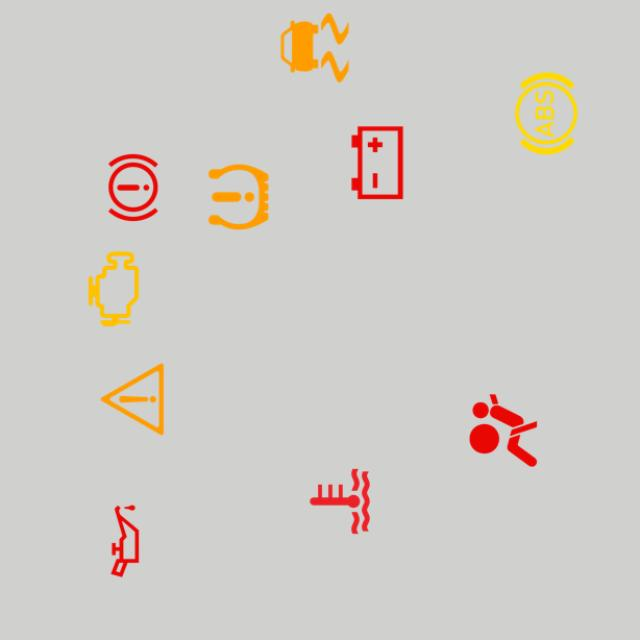Anti Lock Braking System: (501, 69, 591, 158)
Braking System Issue: (89, 143, 178, 232)
Charging System Issue: (333, 118, 422, 207)
Check Engine: (69, 244, 158, 333)
Electronic Stability Problem -ESP-: (270, 3, 360, 93)
Engine Overheating Warning Light: (295, 457, 385, 546)
Low Engine Oil Warning Light: (80, 496, 170, 586)
Low Tire Pressure Warning Light: (194, 152, 283, 242)
Master warning light: (88, 354, 177, 444)
SRS-Airbag: (459, 386, 548, 475)
